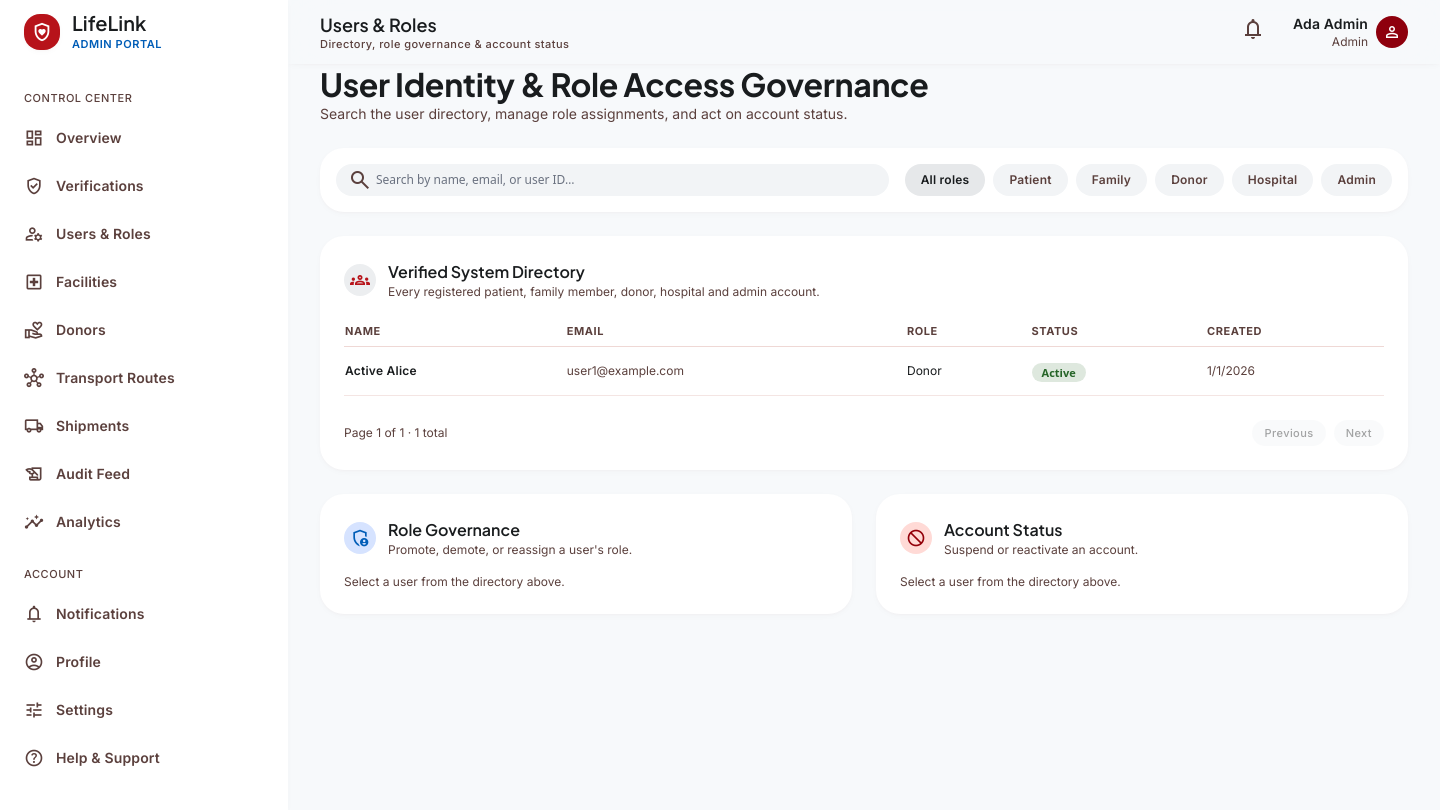
Test: UserManagement -- suspend/reactivate flow › keeps a real 403 visible on suspend -- it never claims success
Click the text "Active Alice" at (381,370), box [344,346,566,396]
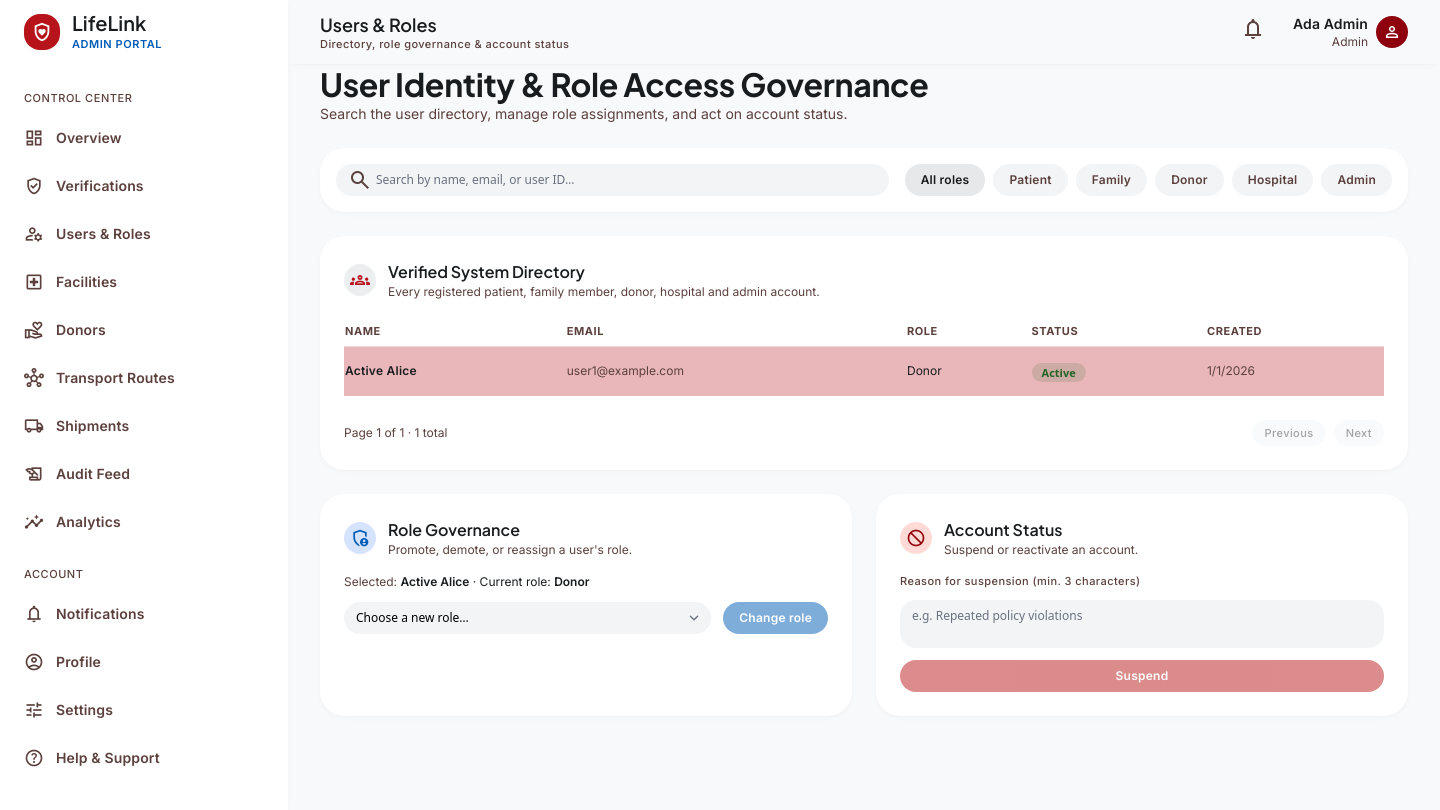
Type "Repeated abuse" into the text box labelled "Reason for suspension (min. 3 characters)" at (1142,624), box [900,600,1384,648]
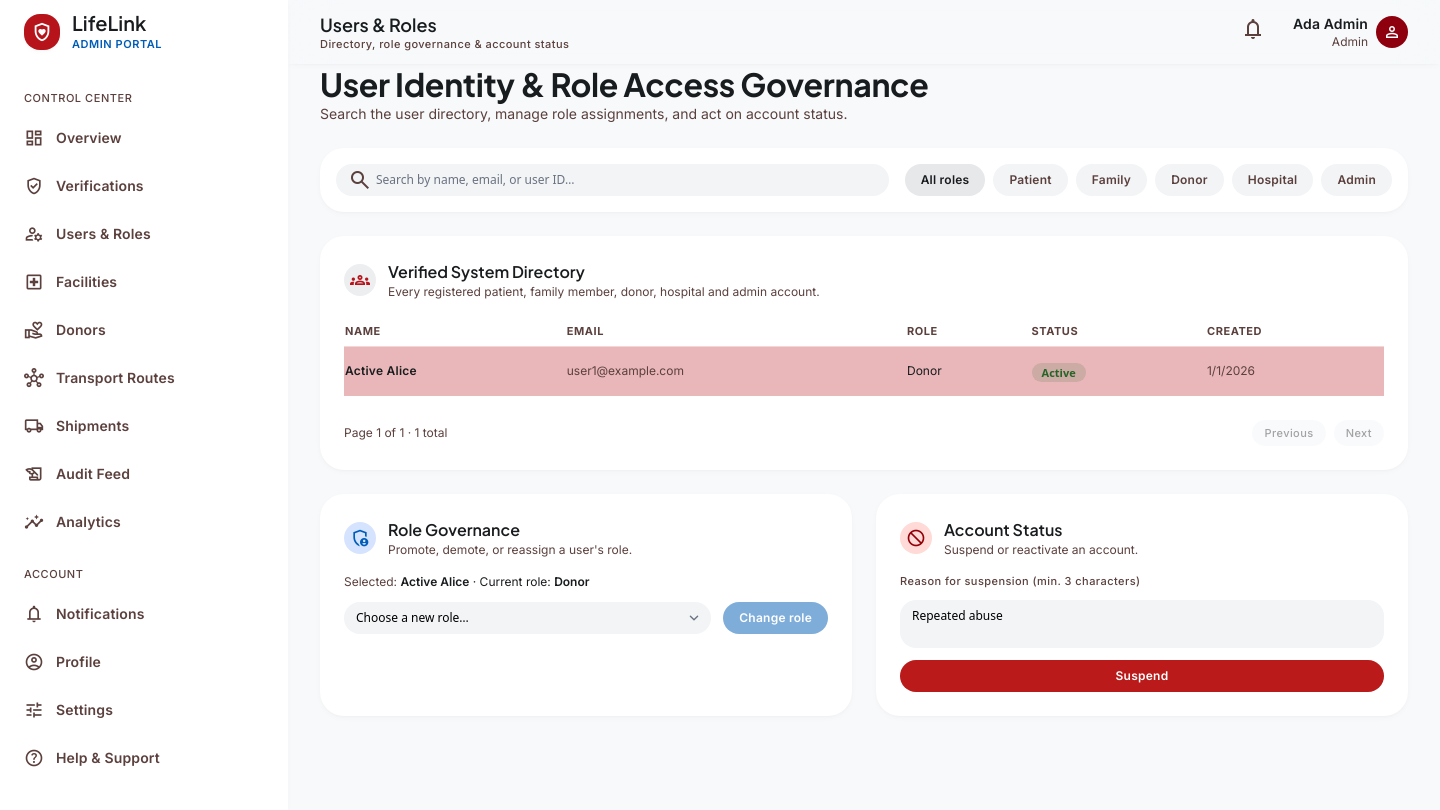
Click the button "Suspend" at (1142,676), box [900,660,1384,692]
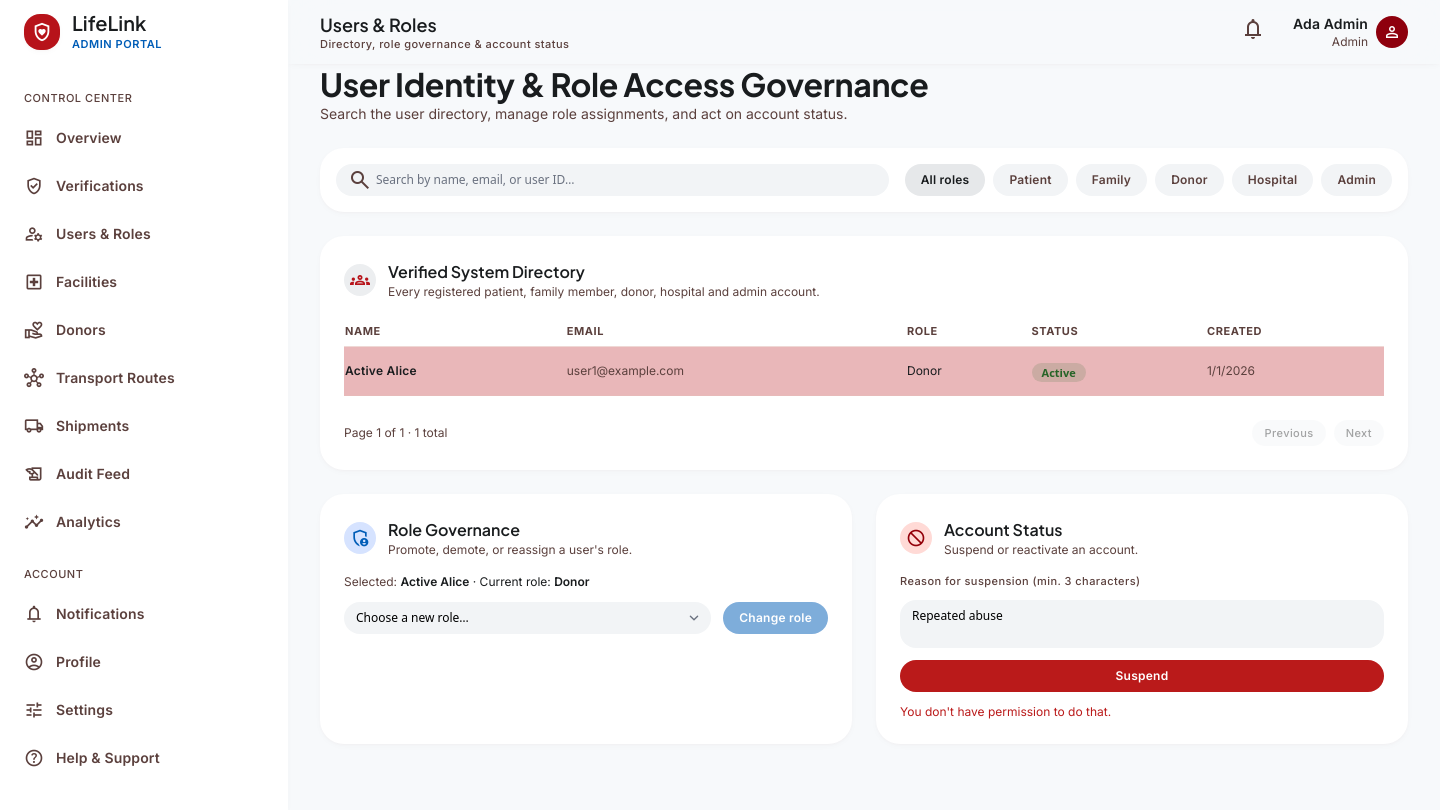
Expected: the button "Suspend" is shown, [900,660,1384,692]
Expected: the text "You don't have permission to do that." is shown, [900,704,1111,719]
